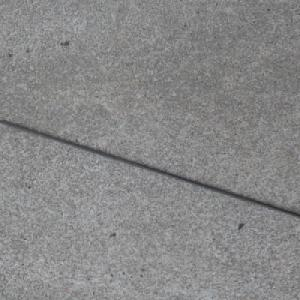LuggagePart: (0, 119, 300, 218)
